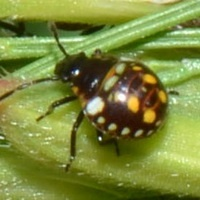insect: (0, 25, 199, 199), (0, 37, 54, 74)
